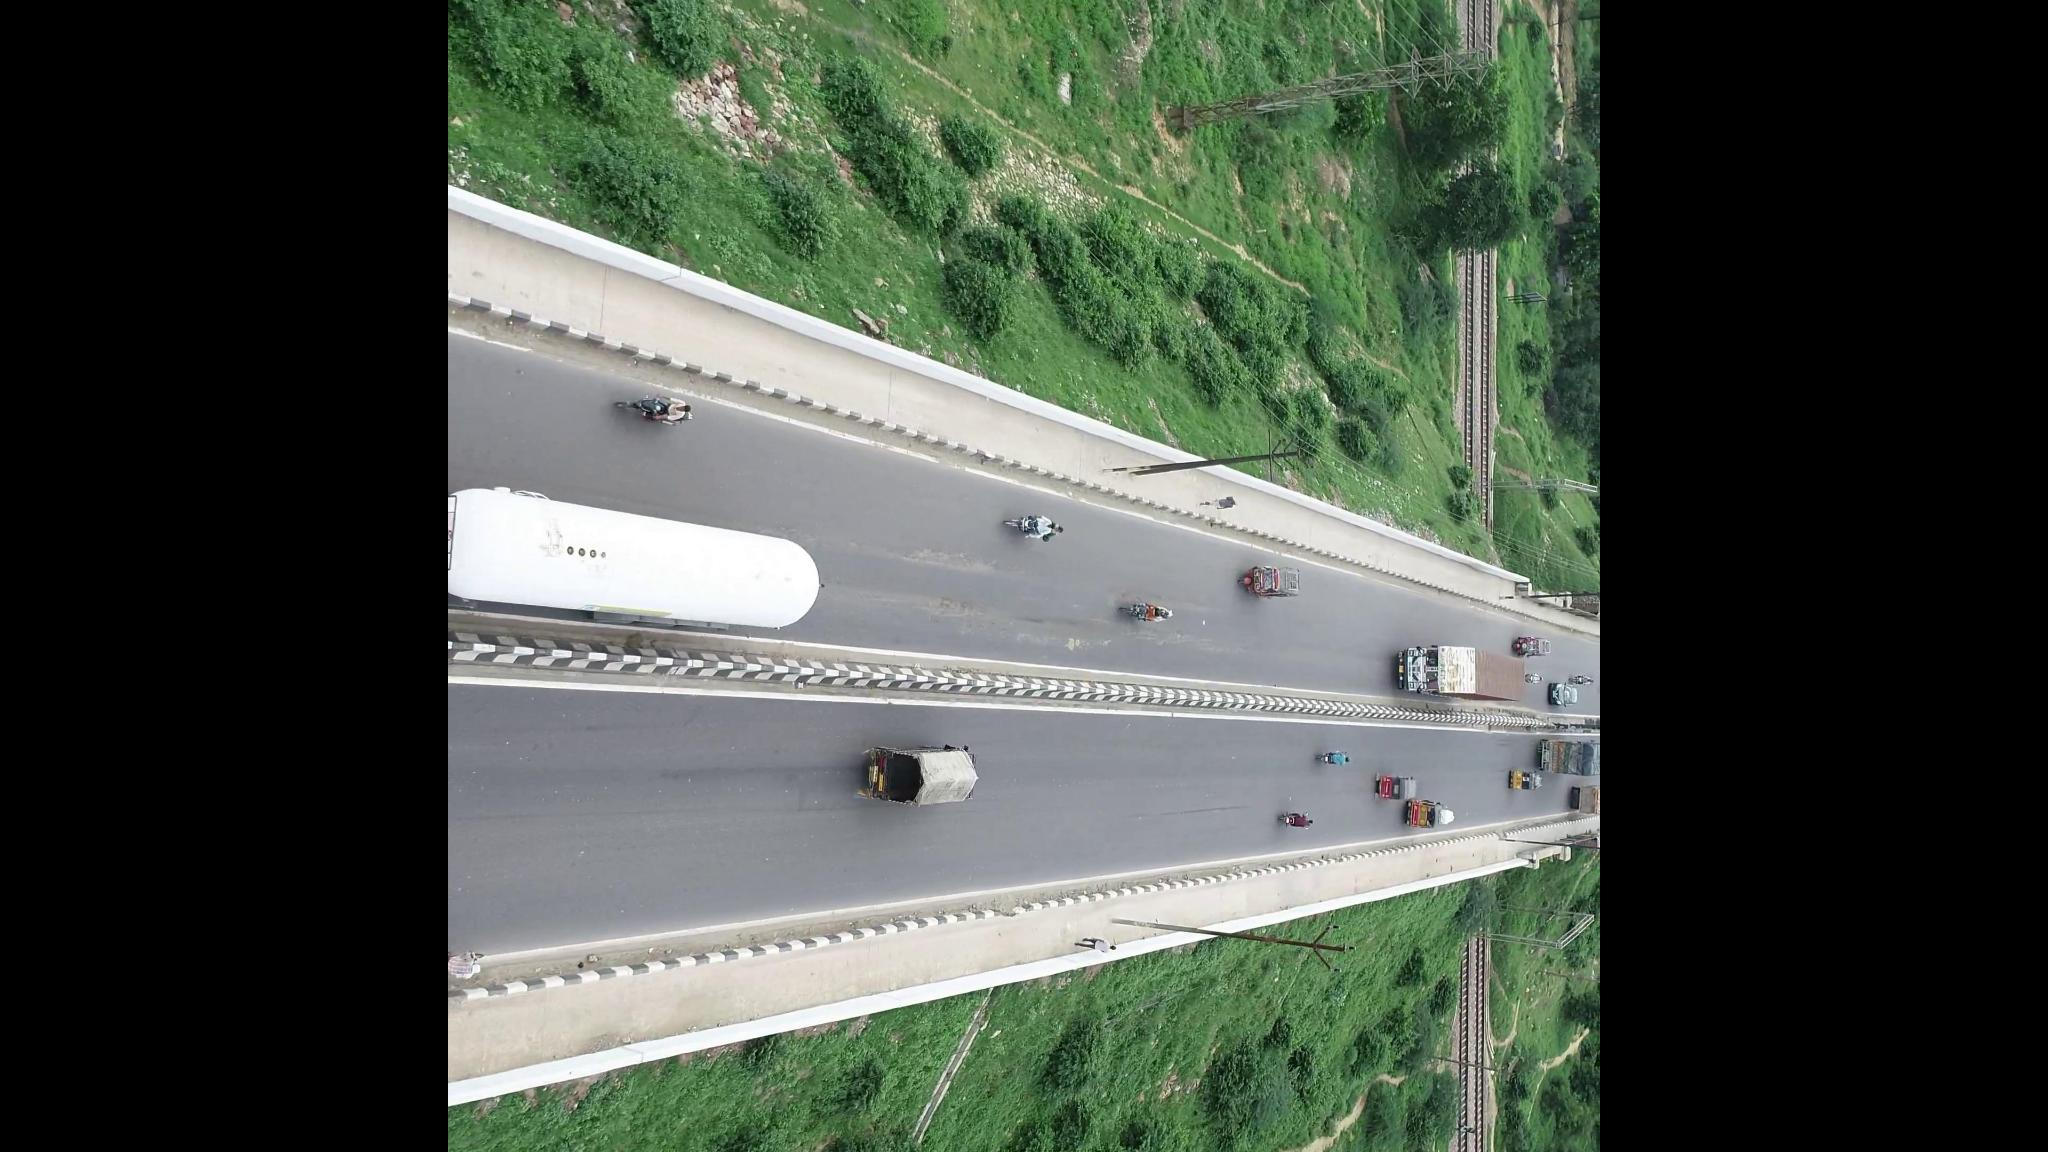Potholes: (1052, 632, 1090, 658)
Ravelling: (1122, 626, 1260, 655), (895, 544, 1009, 572)
